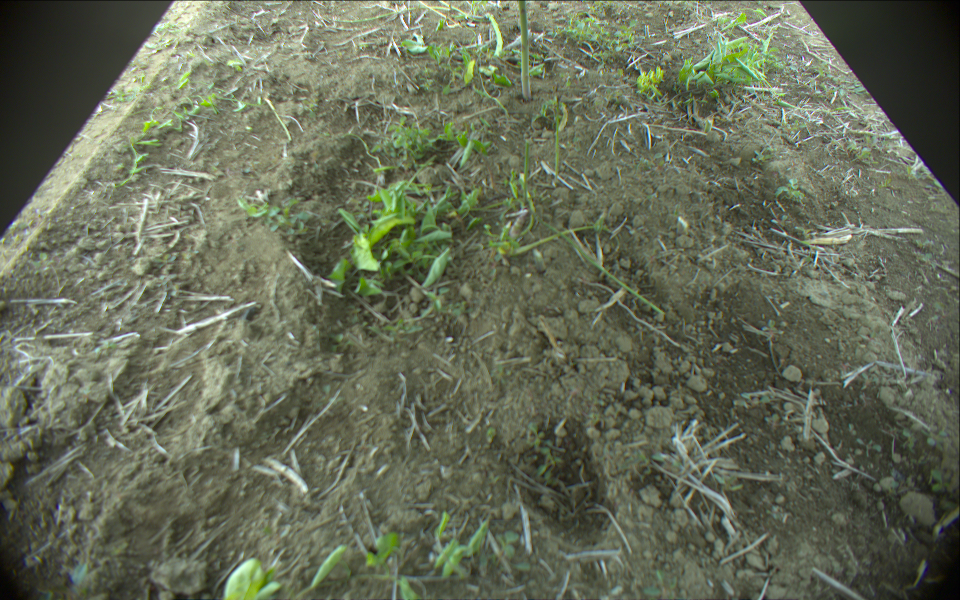aspa: (523, 208, 662, 313), (512, 224, 628, 255), (334, 6, 475, 24), (517, 1, 533, 98), (420, 1, 460, 27), (551, 95, 562, 186), (488, 13, 504, 61), (522, 135, 531, 208), (446, 1, 473, 16)
